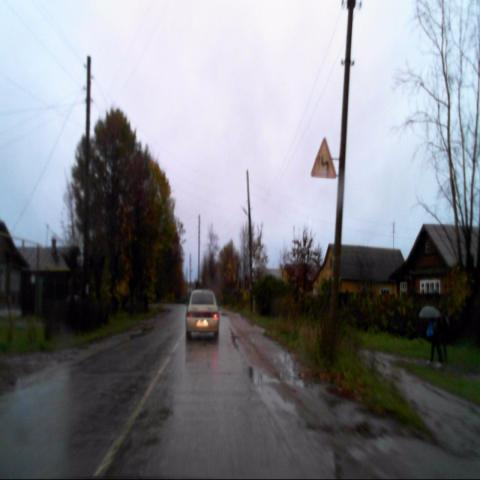1_12_2: (311, 137, 336, 179)
